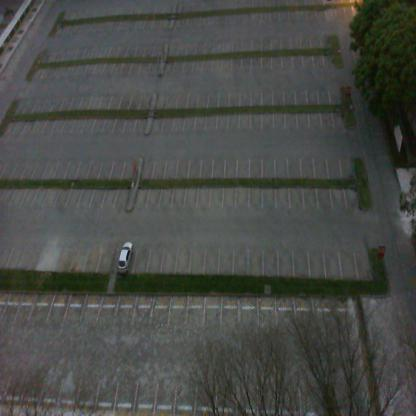car: (118, 240, 134, 275)
